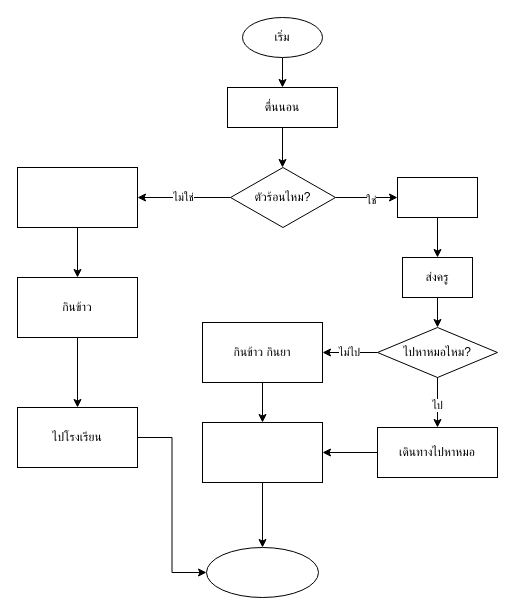
Image size: 515x615. Some labels were removed from this diagram. The box of each missing label's shape, as (x1, y1, x2, y2) in pixels:
จบ: (206, 546, 318, 598)
พักผ่อน: (202, 422, 322, 482)
อาบน้ำ: (16, 166, 138, 228)
เขียนใบลาป่วย: (396, 176, 478, 218)
